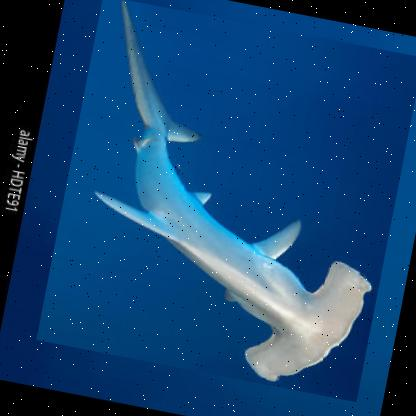hammerhead_Shark: (33, 0, 415, 403)
